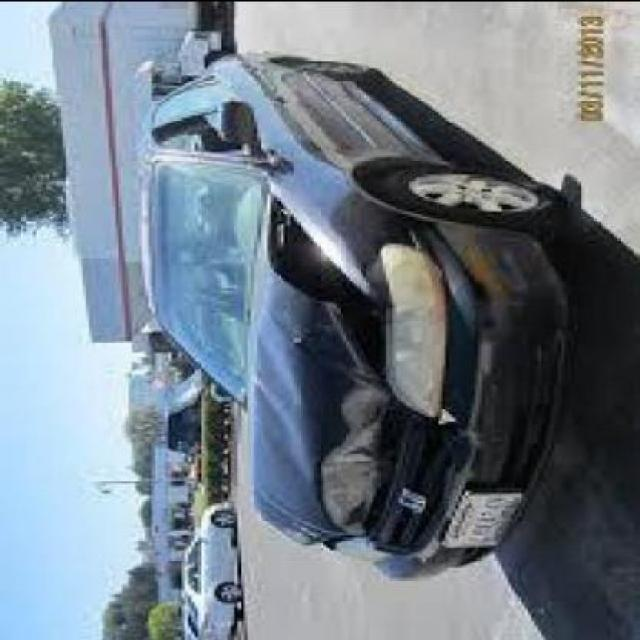damage: (245, 191, 423, 546)
